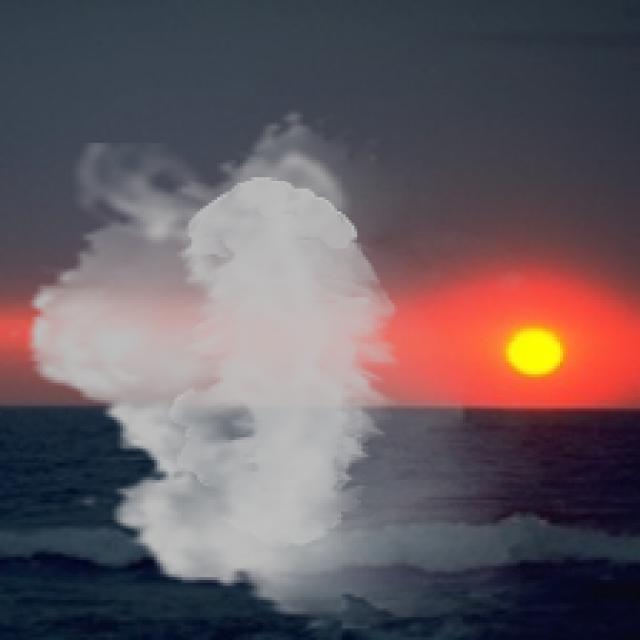smoke: (6, 109, 551, 628)
